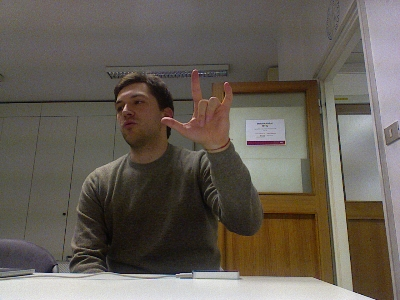我爱你: (158, 67, 233, 151)
